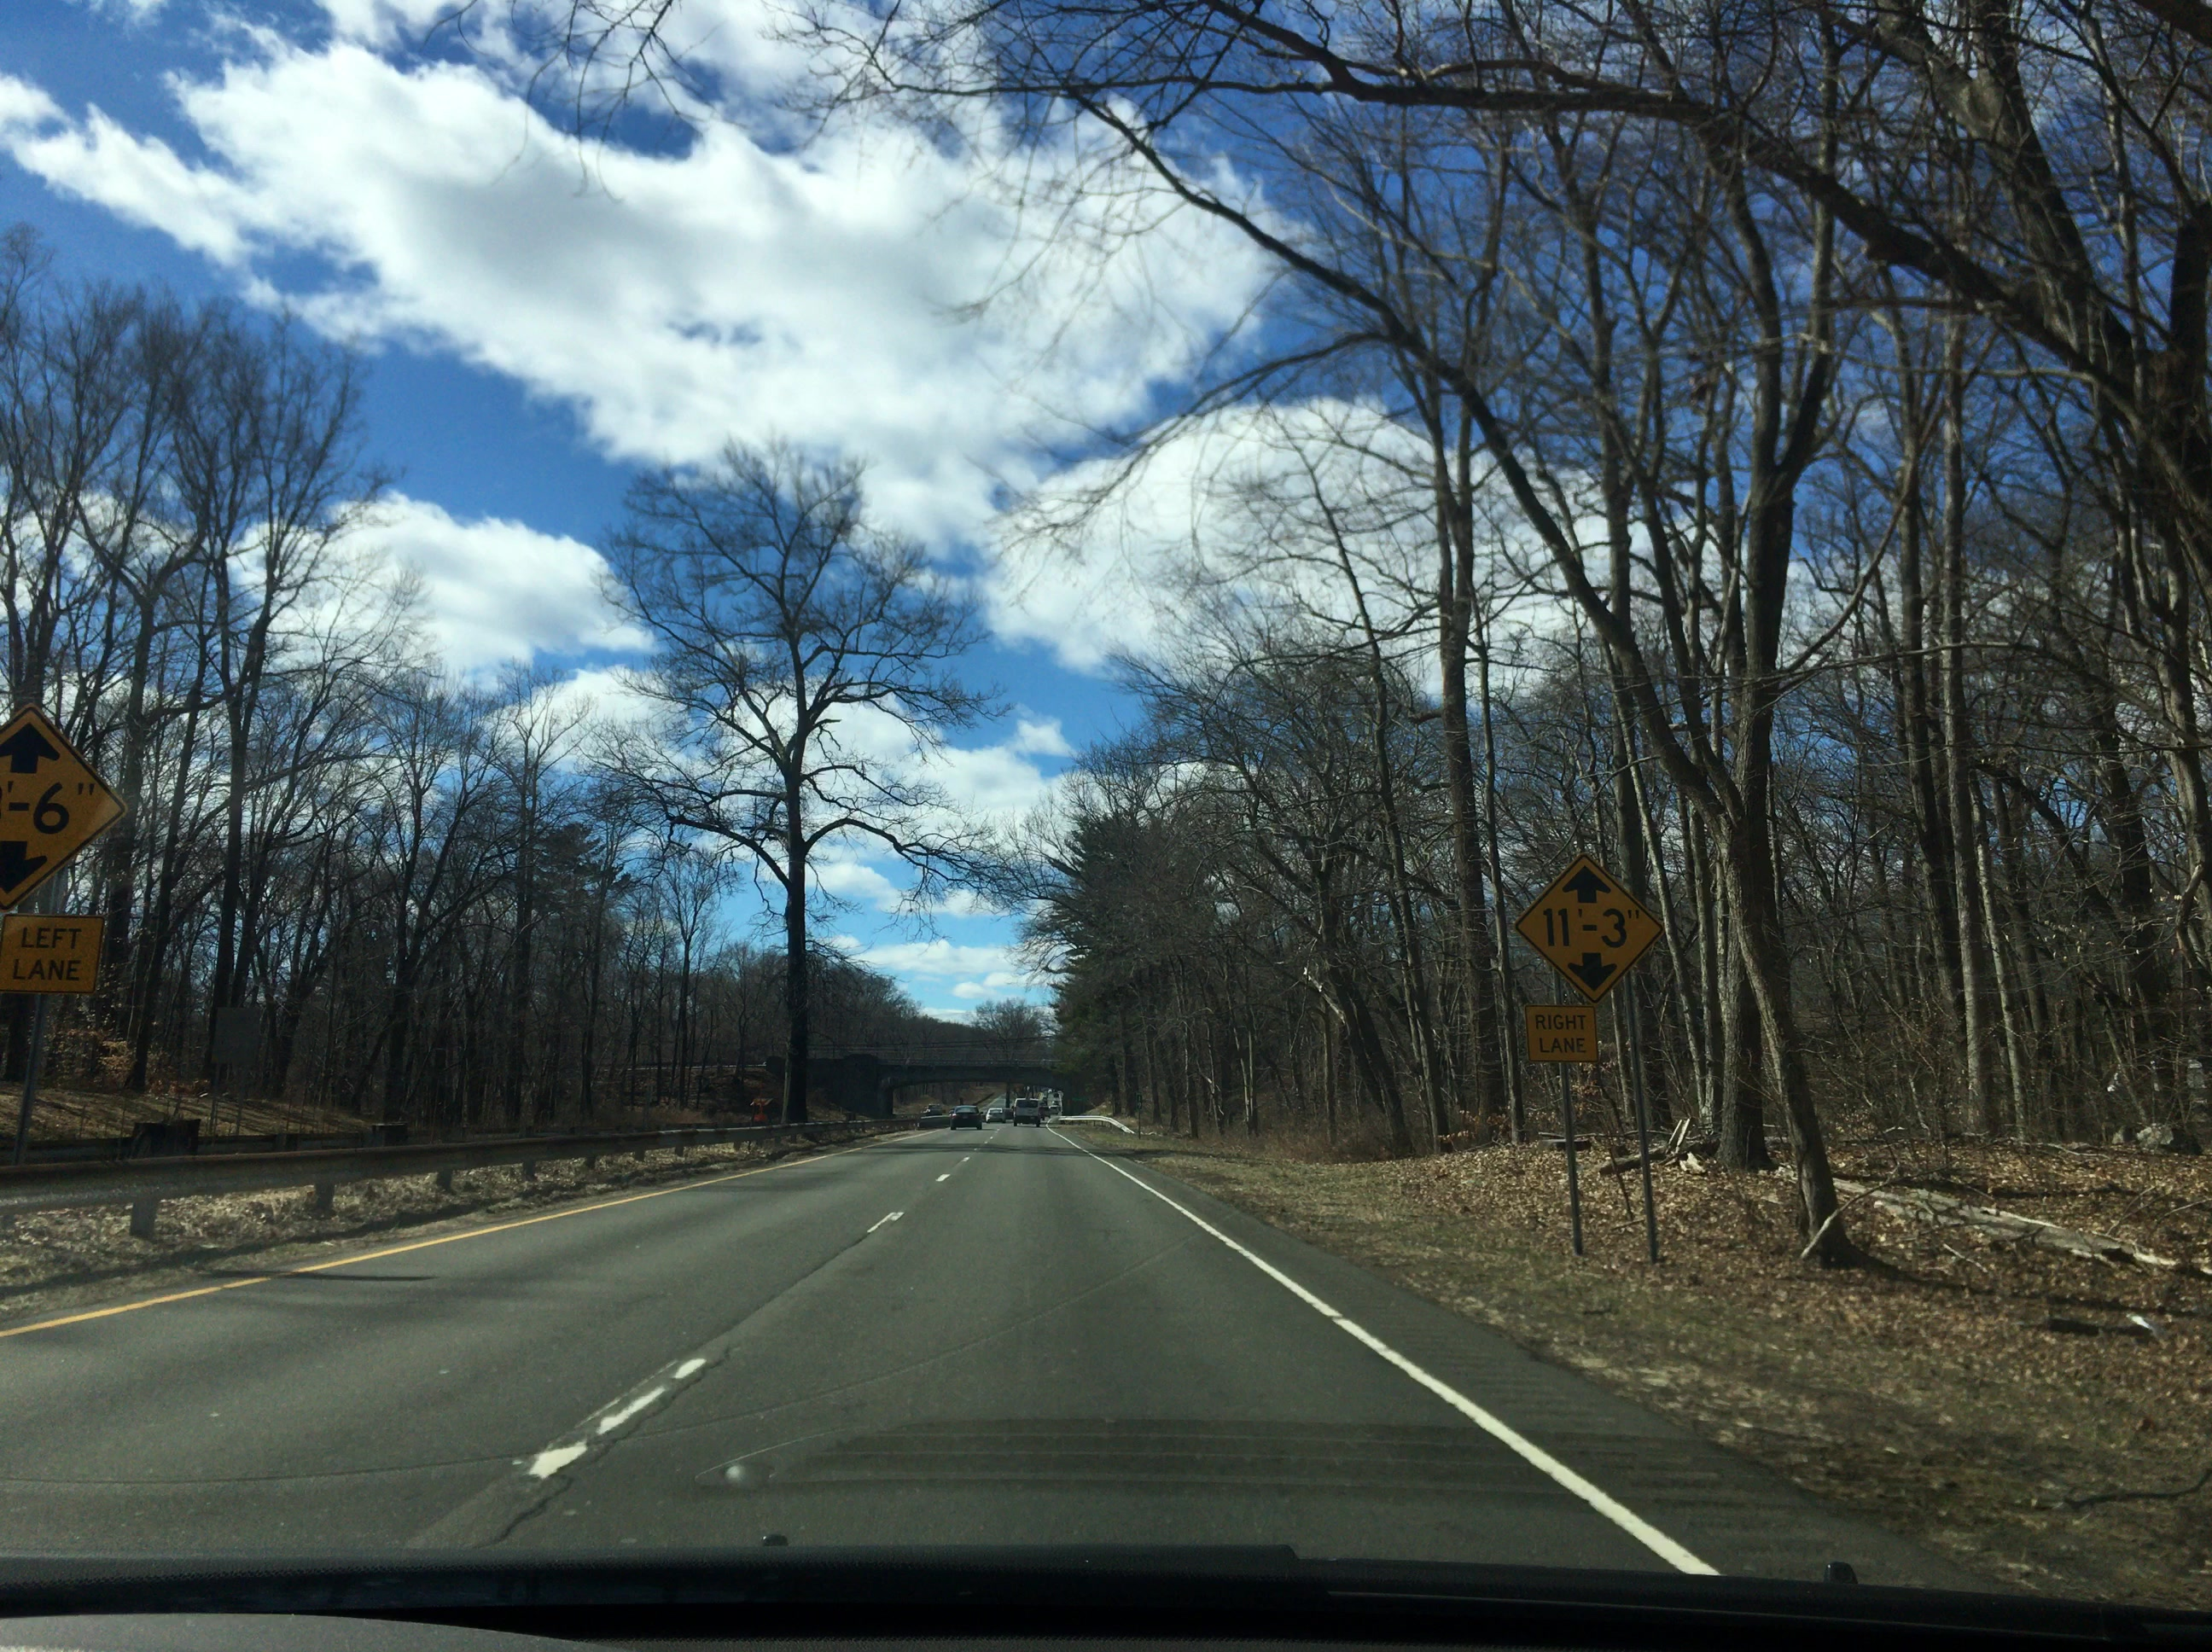low-clearance-sign: (0, 703, 127, 914), (1515, 852, 1666, 1005)
